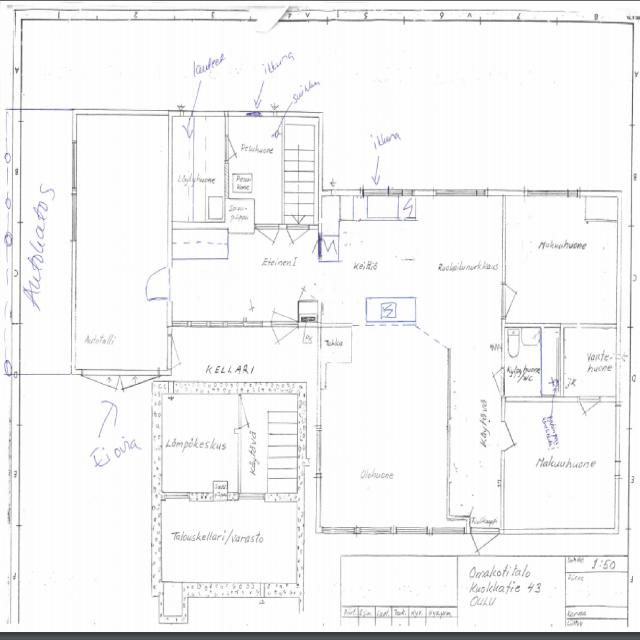door: (472, 528, 499, 571), (271, 286, 298, 326), (271, 322, 298, 362), (500, 557, 530, 592), (143, 266, 172, 299), (168, 335, 195, 368), (501, 284, 528, 316), (238, 396, 264, 428), (501, 421, 526, 451), (256, 225, 278, 259), (287, 225, 309, 258), (580, 397, 600, 430), (480, 368, 504, 395), (225, 136, 246, 160)
